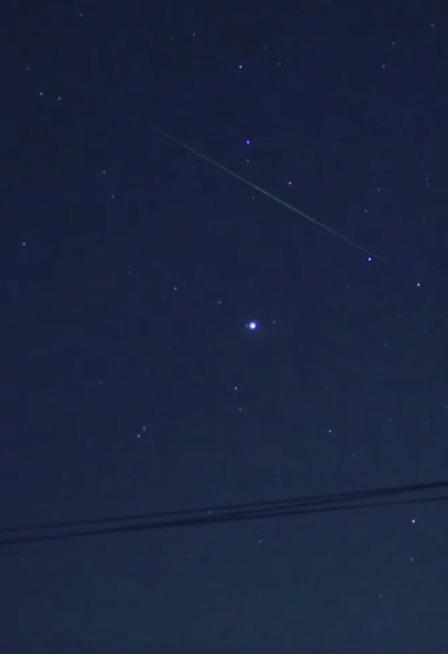meteorite: (140, 122, 341, 231)
